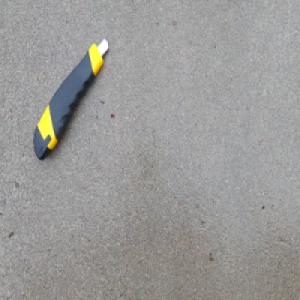Cutter: (31, 37, 109, 163)
